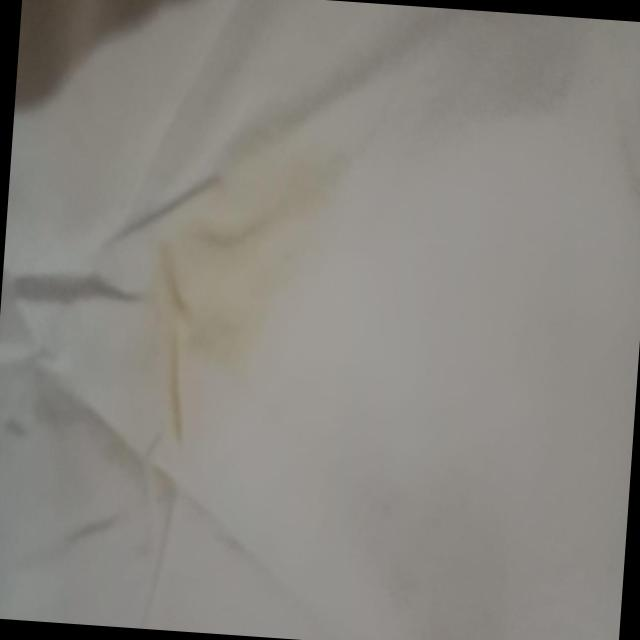stain: (143, 127, 314, 408)
